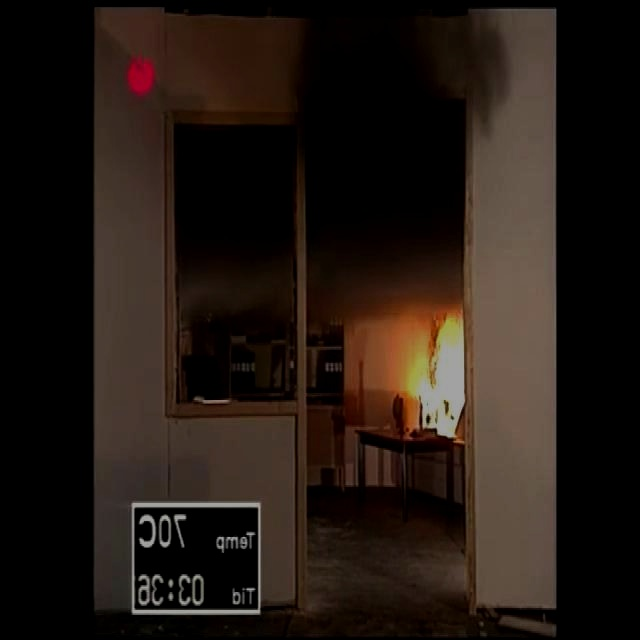fire: (387, 297, 465, 449)
